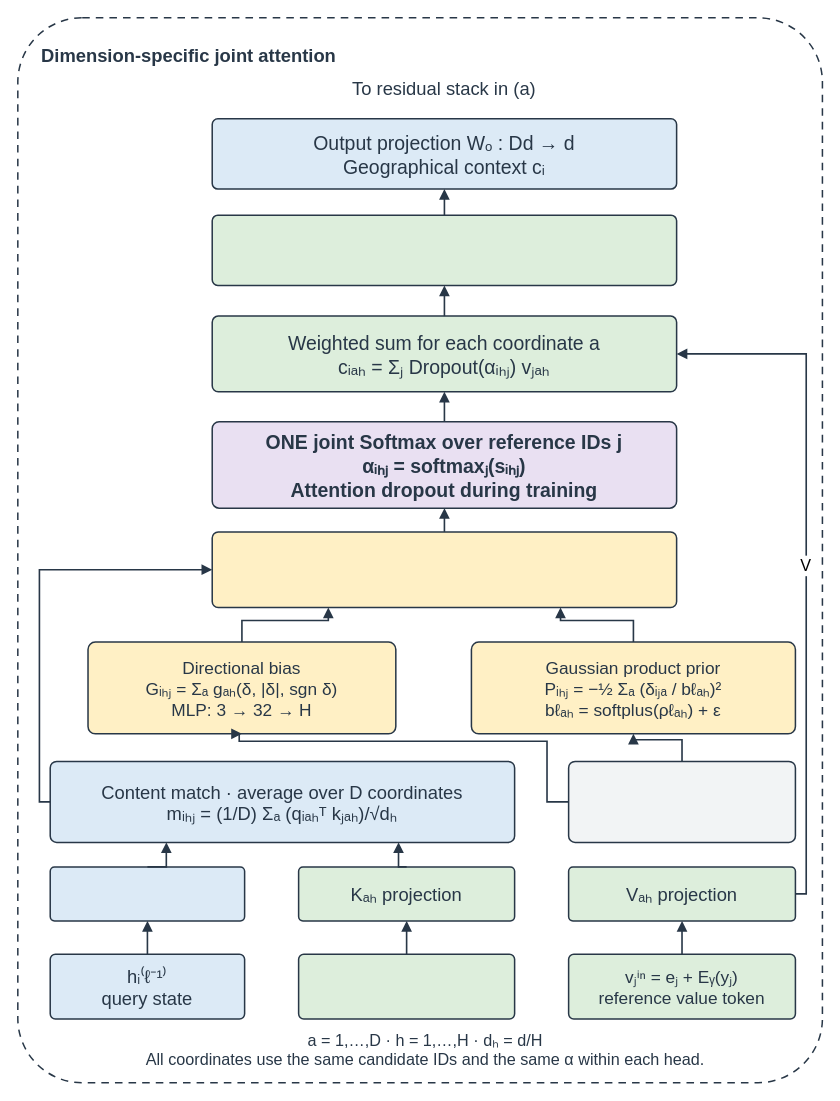
The diagram is 840 pixels wide and 1101 high, and some of its shapes have lost their labels. Each missing label, with the box of its shape:
Add scores + padding mask sᵢₕⱼ = mᵢₕⱼ + Gᵢₕⱼ + Pᵢₕⱼ: (211, 531, 677, 608)
Concatenate all coordinate–head contexts D × H × dₕ = Dd: (211, 214, 677, 286)
eⱼ reference key token: (297, 953, 515, 1019)
Qₐₕ projection: (49, 866, 245, 921)
Relative coordinate δᵢⱼₐ = zⱼₐ − zᵢₐ: (567, 760, 796, 843)
